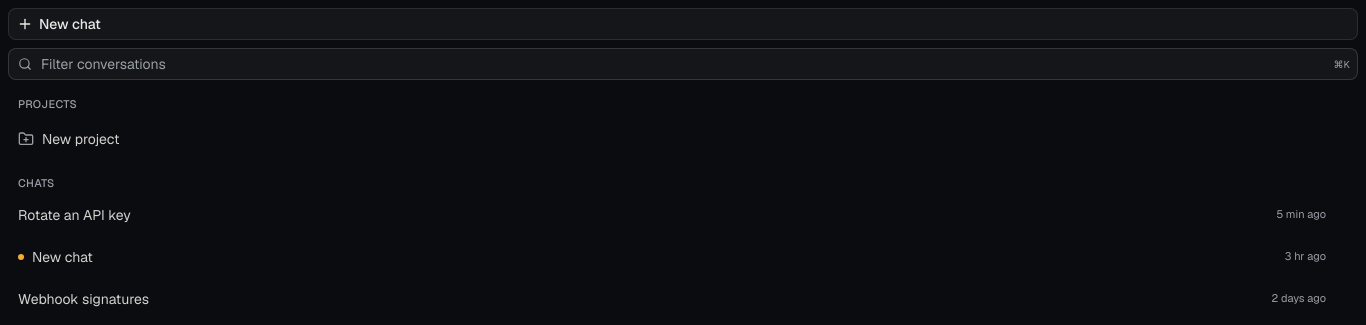
Test: ConversationList › filters by title, focuses on Cmd+K and clears on Escape
Press k
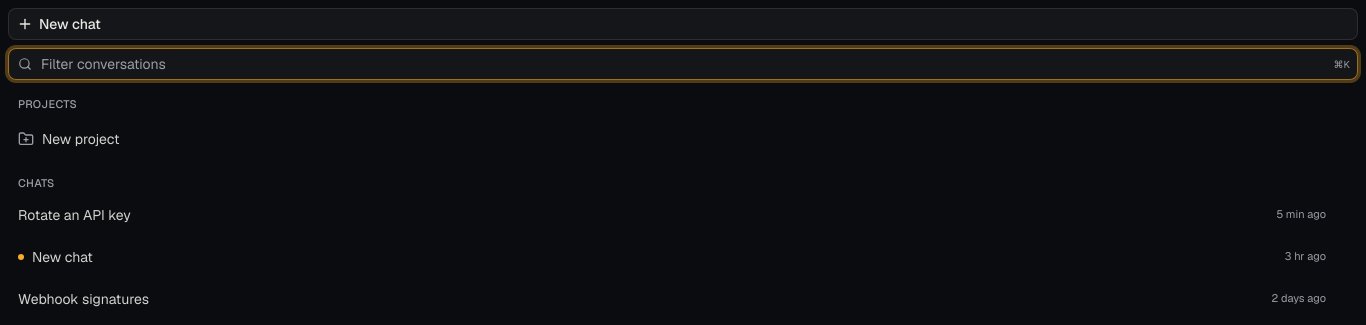
Type "webhook" into the search field labelled "Filter conversations" at (683,64), box [8,48,1358,80]
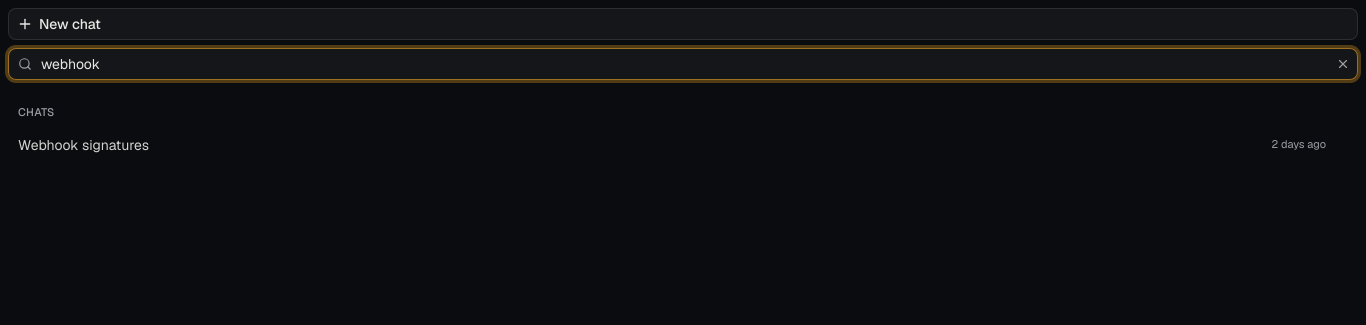
expect the text "Webhook signatures" is shown: met, box [18,134,149,154]
expect the number of list items is 1: met, box [18,136,1326,154]
Type "zzz" into the search field named "Filter conversations" at (683,64), box [8,48,1358,80]
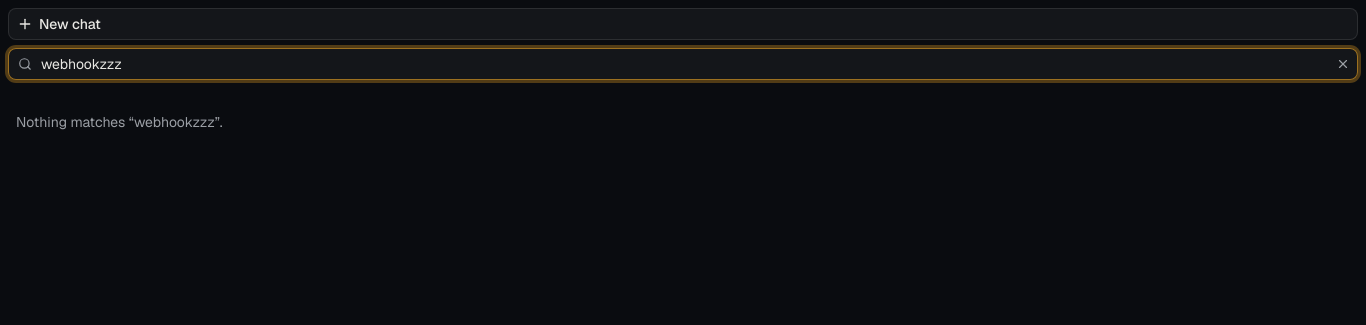
expect the text "Nothing matches" is shown: met, box [16,113,134,131]
Press Escape
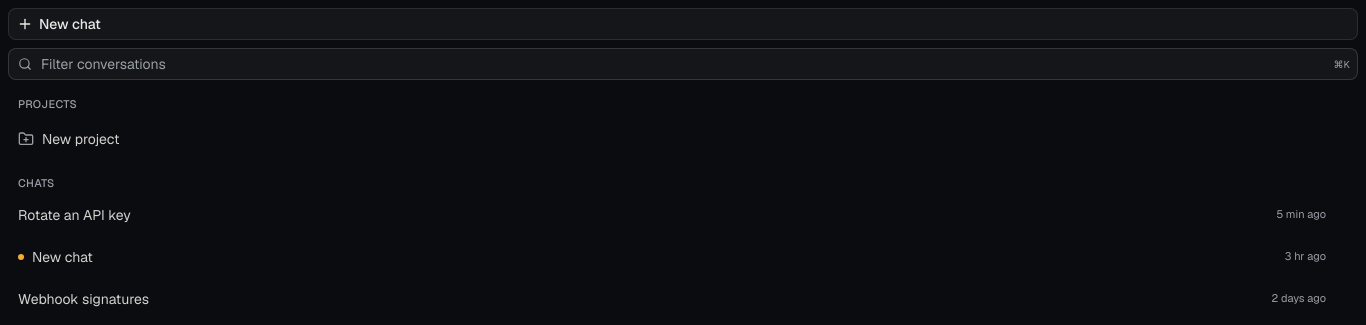
expect the search field labelled "Filter conversations" is empty: met, box [8,48,1358,80]
expect the number of list items is 3: met, box [18,206,1326,224]; [18,248,1326,266]; [18,290,1326,308]
